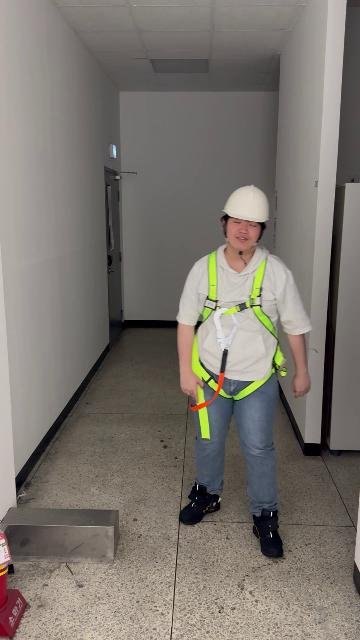helmet_worn: (221, 183, 272, 223)
shoe_worn: (179, 481, 222, 525), (252, 510, 283, 557)
vest_worn: (182, 248, 299, 447)
